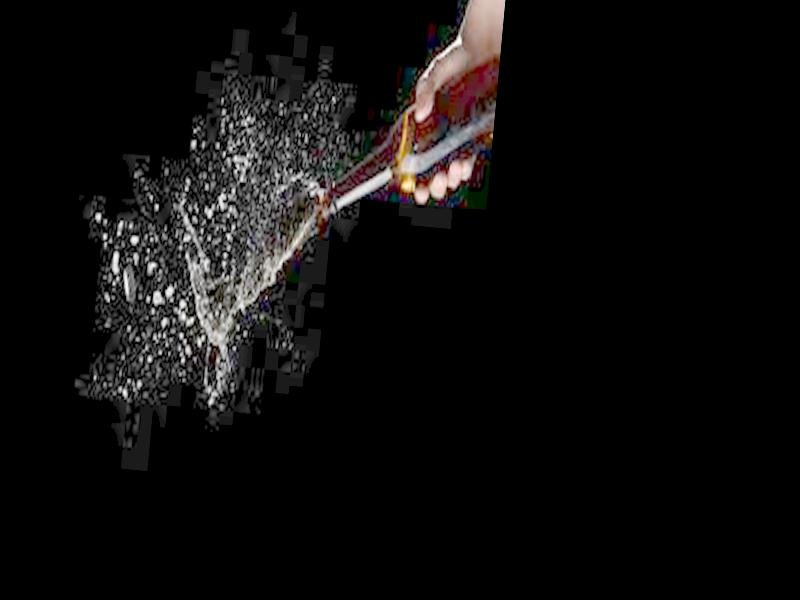Beer: (319, 35, 499, 237)
